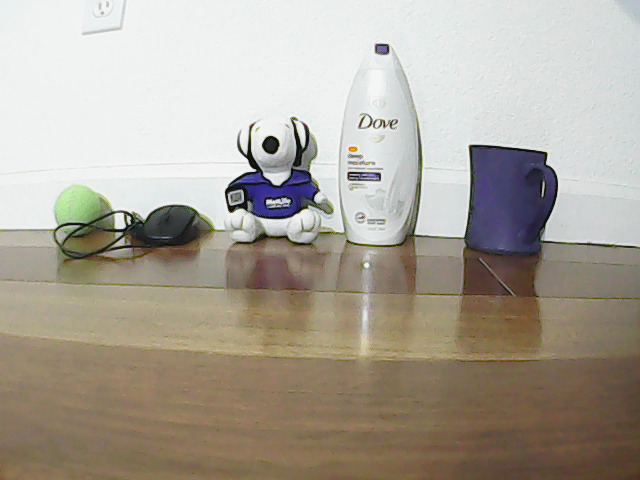ball: (47, 180, 100, 229)
mouse: (134, 192, 189, 248)
mug: (462, 123, 557, 261)
snoopy: (216, 100, 332, 243)
soap: (344, 34, 423, 251)
